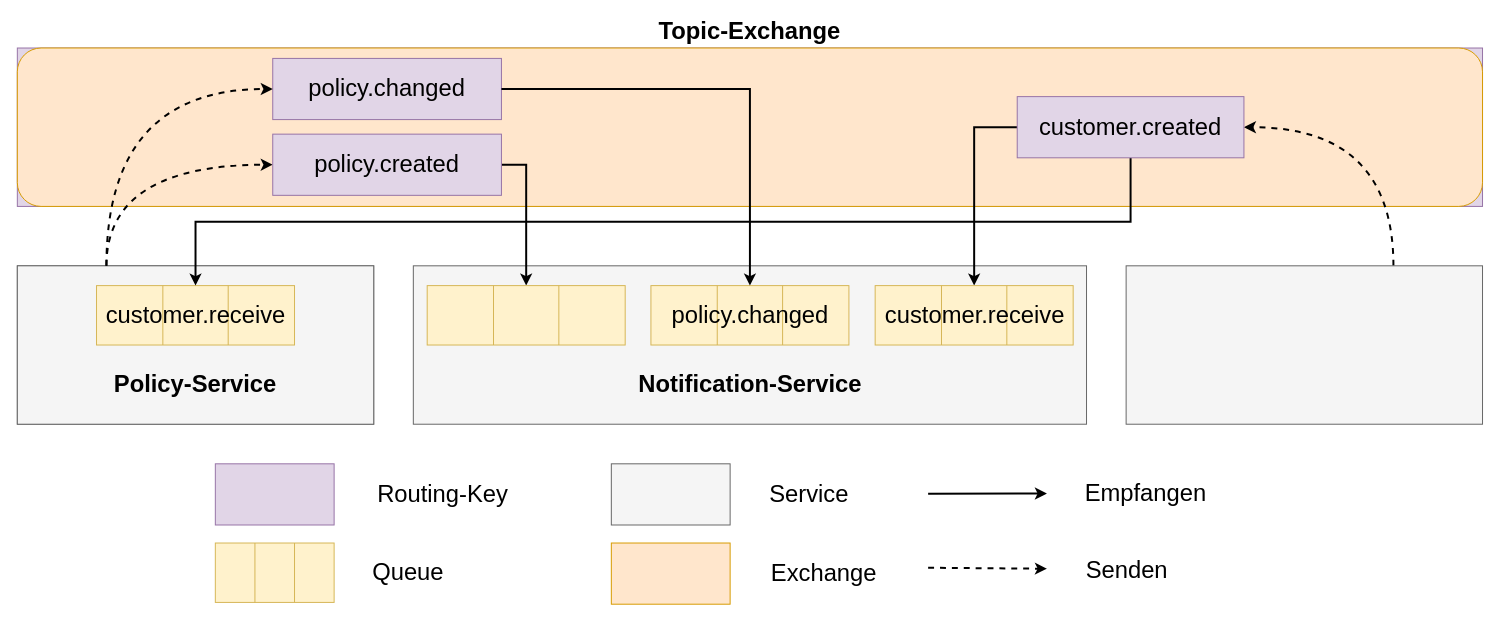
The diagram is 1500 pixels wide and 622 high, and some of its shapes have lost their labels. The shapes that lost their labels are listed below. From the top down, each one's box as (x1, y1, x2, y2) in pixels, then its label:
(426, 285, 625, 345): policy.receive
(1125, 265, 1483, 424): Customer-Service
